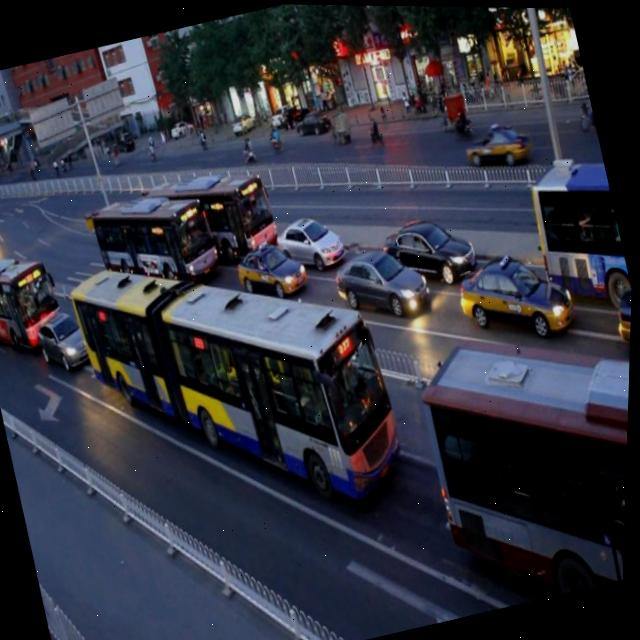car: (451, 239, 583, 363), (326, 234, 433, 335), (379, 204, 483, 298), (229, 230, 312, 311), (269, 203, 349, 283), (34, 306, 102, 376), (606, 277, 634, 353)
van: (59, 202, 421, 559), (411, 303, 633, 615), (84, 172, 227, 313), (520, 149, 637, 320), (142, 151, 286, 283), (0, 235, 67, 351)
